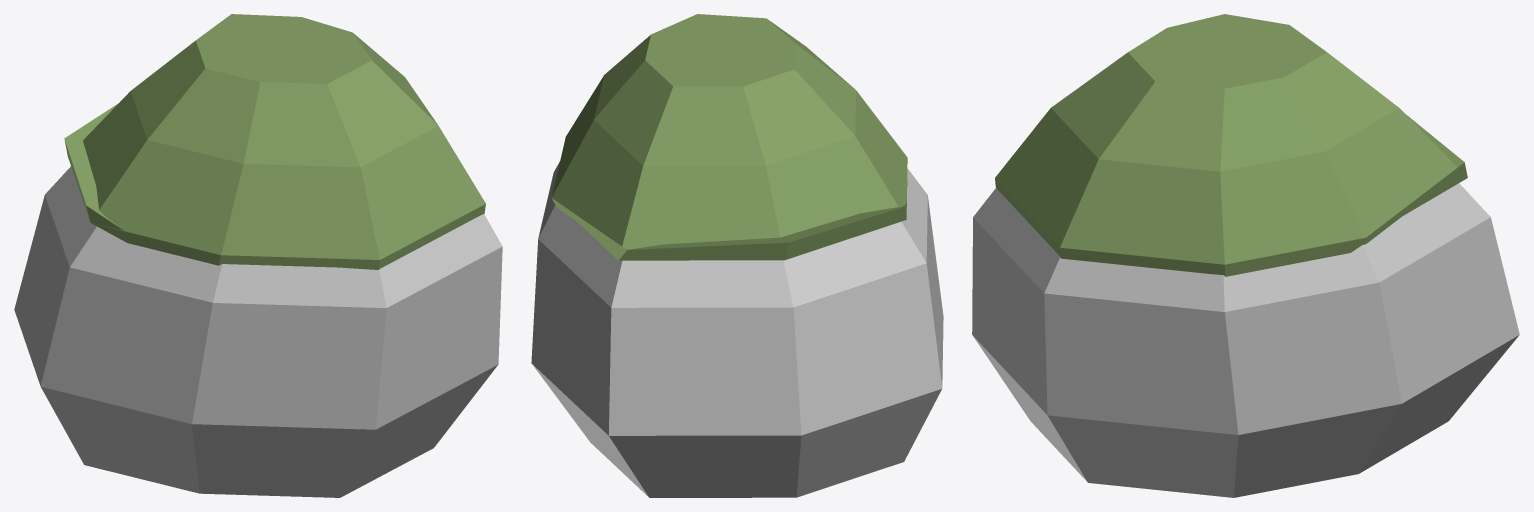
The model's file is moss_rock.glb.
The picture shows the model from 3 angles, left to right: view 1: azimuth 30°, elevation 25°; view 2: azimuth 150°, elevation 25°; view 3: azimuth 270°, elevation 25°; orthographic projection. The views are drawn at different scales.
Visible parts, largest first — view 1: moss_rock; view 2: moss_rock; view 3: moss_rock.
Part boxes in pixels (x1=…): moss_rock: x1=14, y1=14, x2=502, y2=497; moss_rock: x1=531, y1=14, x2=943, y2=497; moss_rock: x1=972, y1=14, x2=1519, y2=497.
Size of the model in its own units: 1.07 by 0.94 by 1.21.
